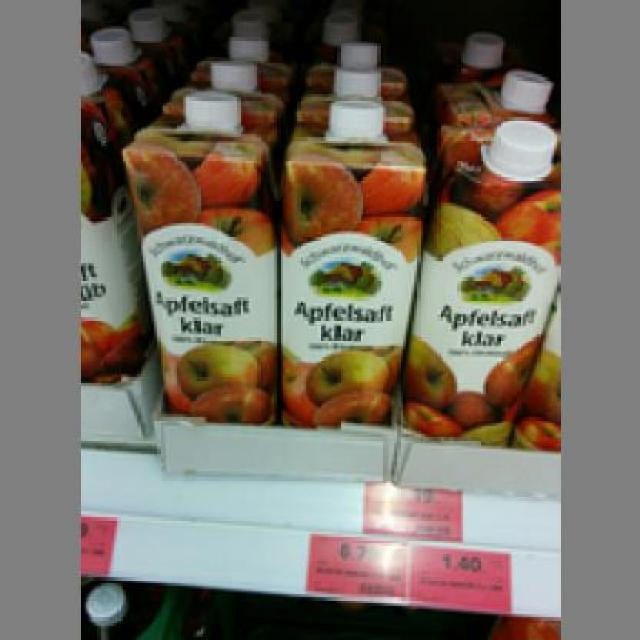Juice: (117, 88, 277, 426), (274, 97, 429, 430), (397, 117, 554, 440)
